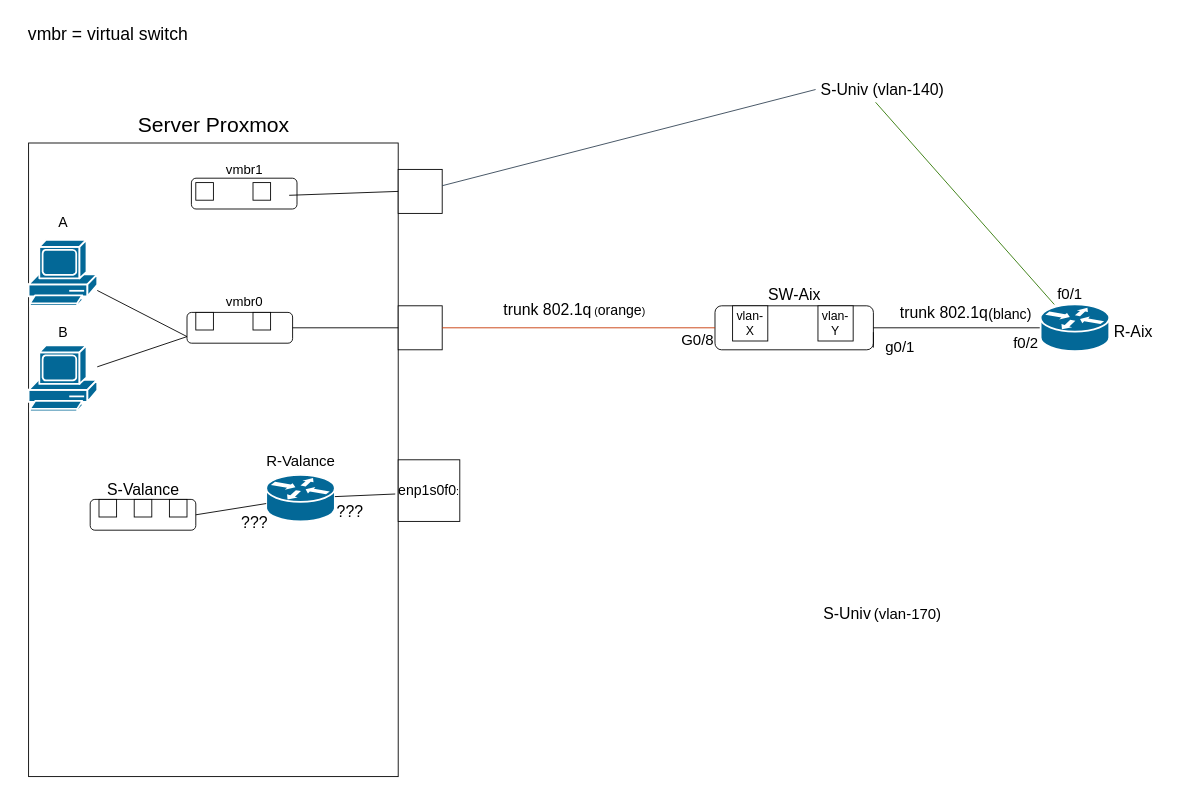
The diagram is 1178 pixels wide and 792 high, and some of its shapes have lost their labels. Here are the shapes that lost their labels. From the top down, the box of each, then its label:
(397, 169, 442, 213): eno1
(397, 305, 442, 350): eno2
